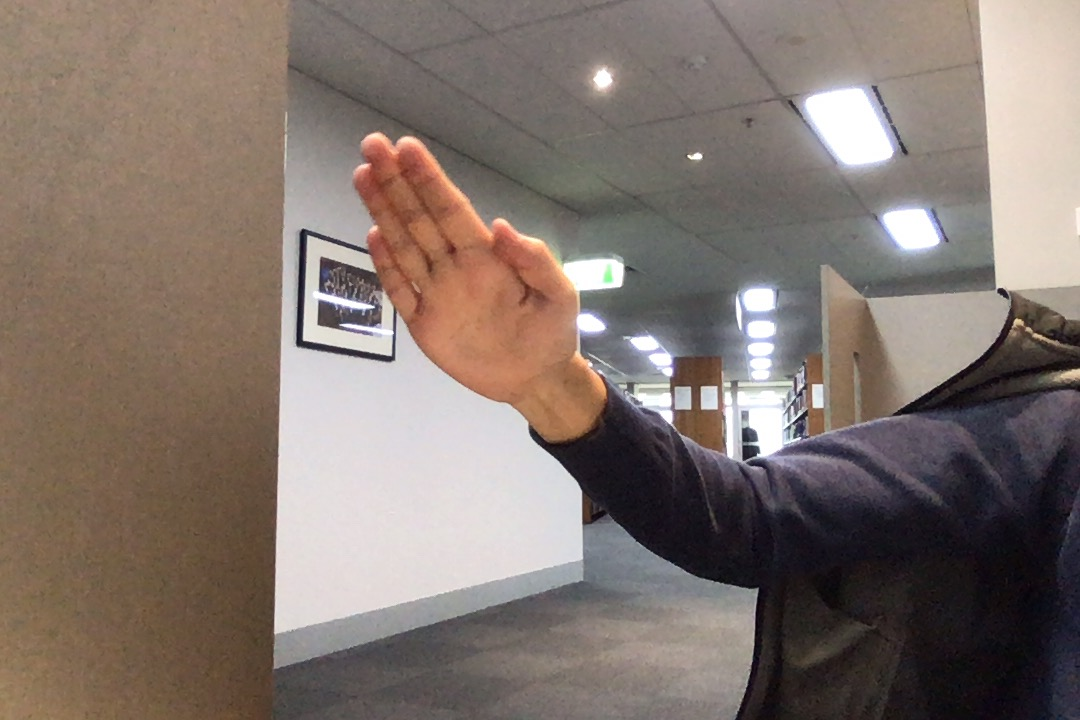palmhand: (340, 123, 592, 412)
